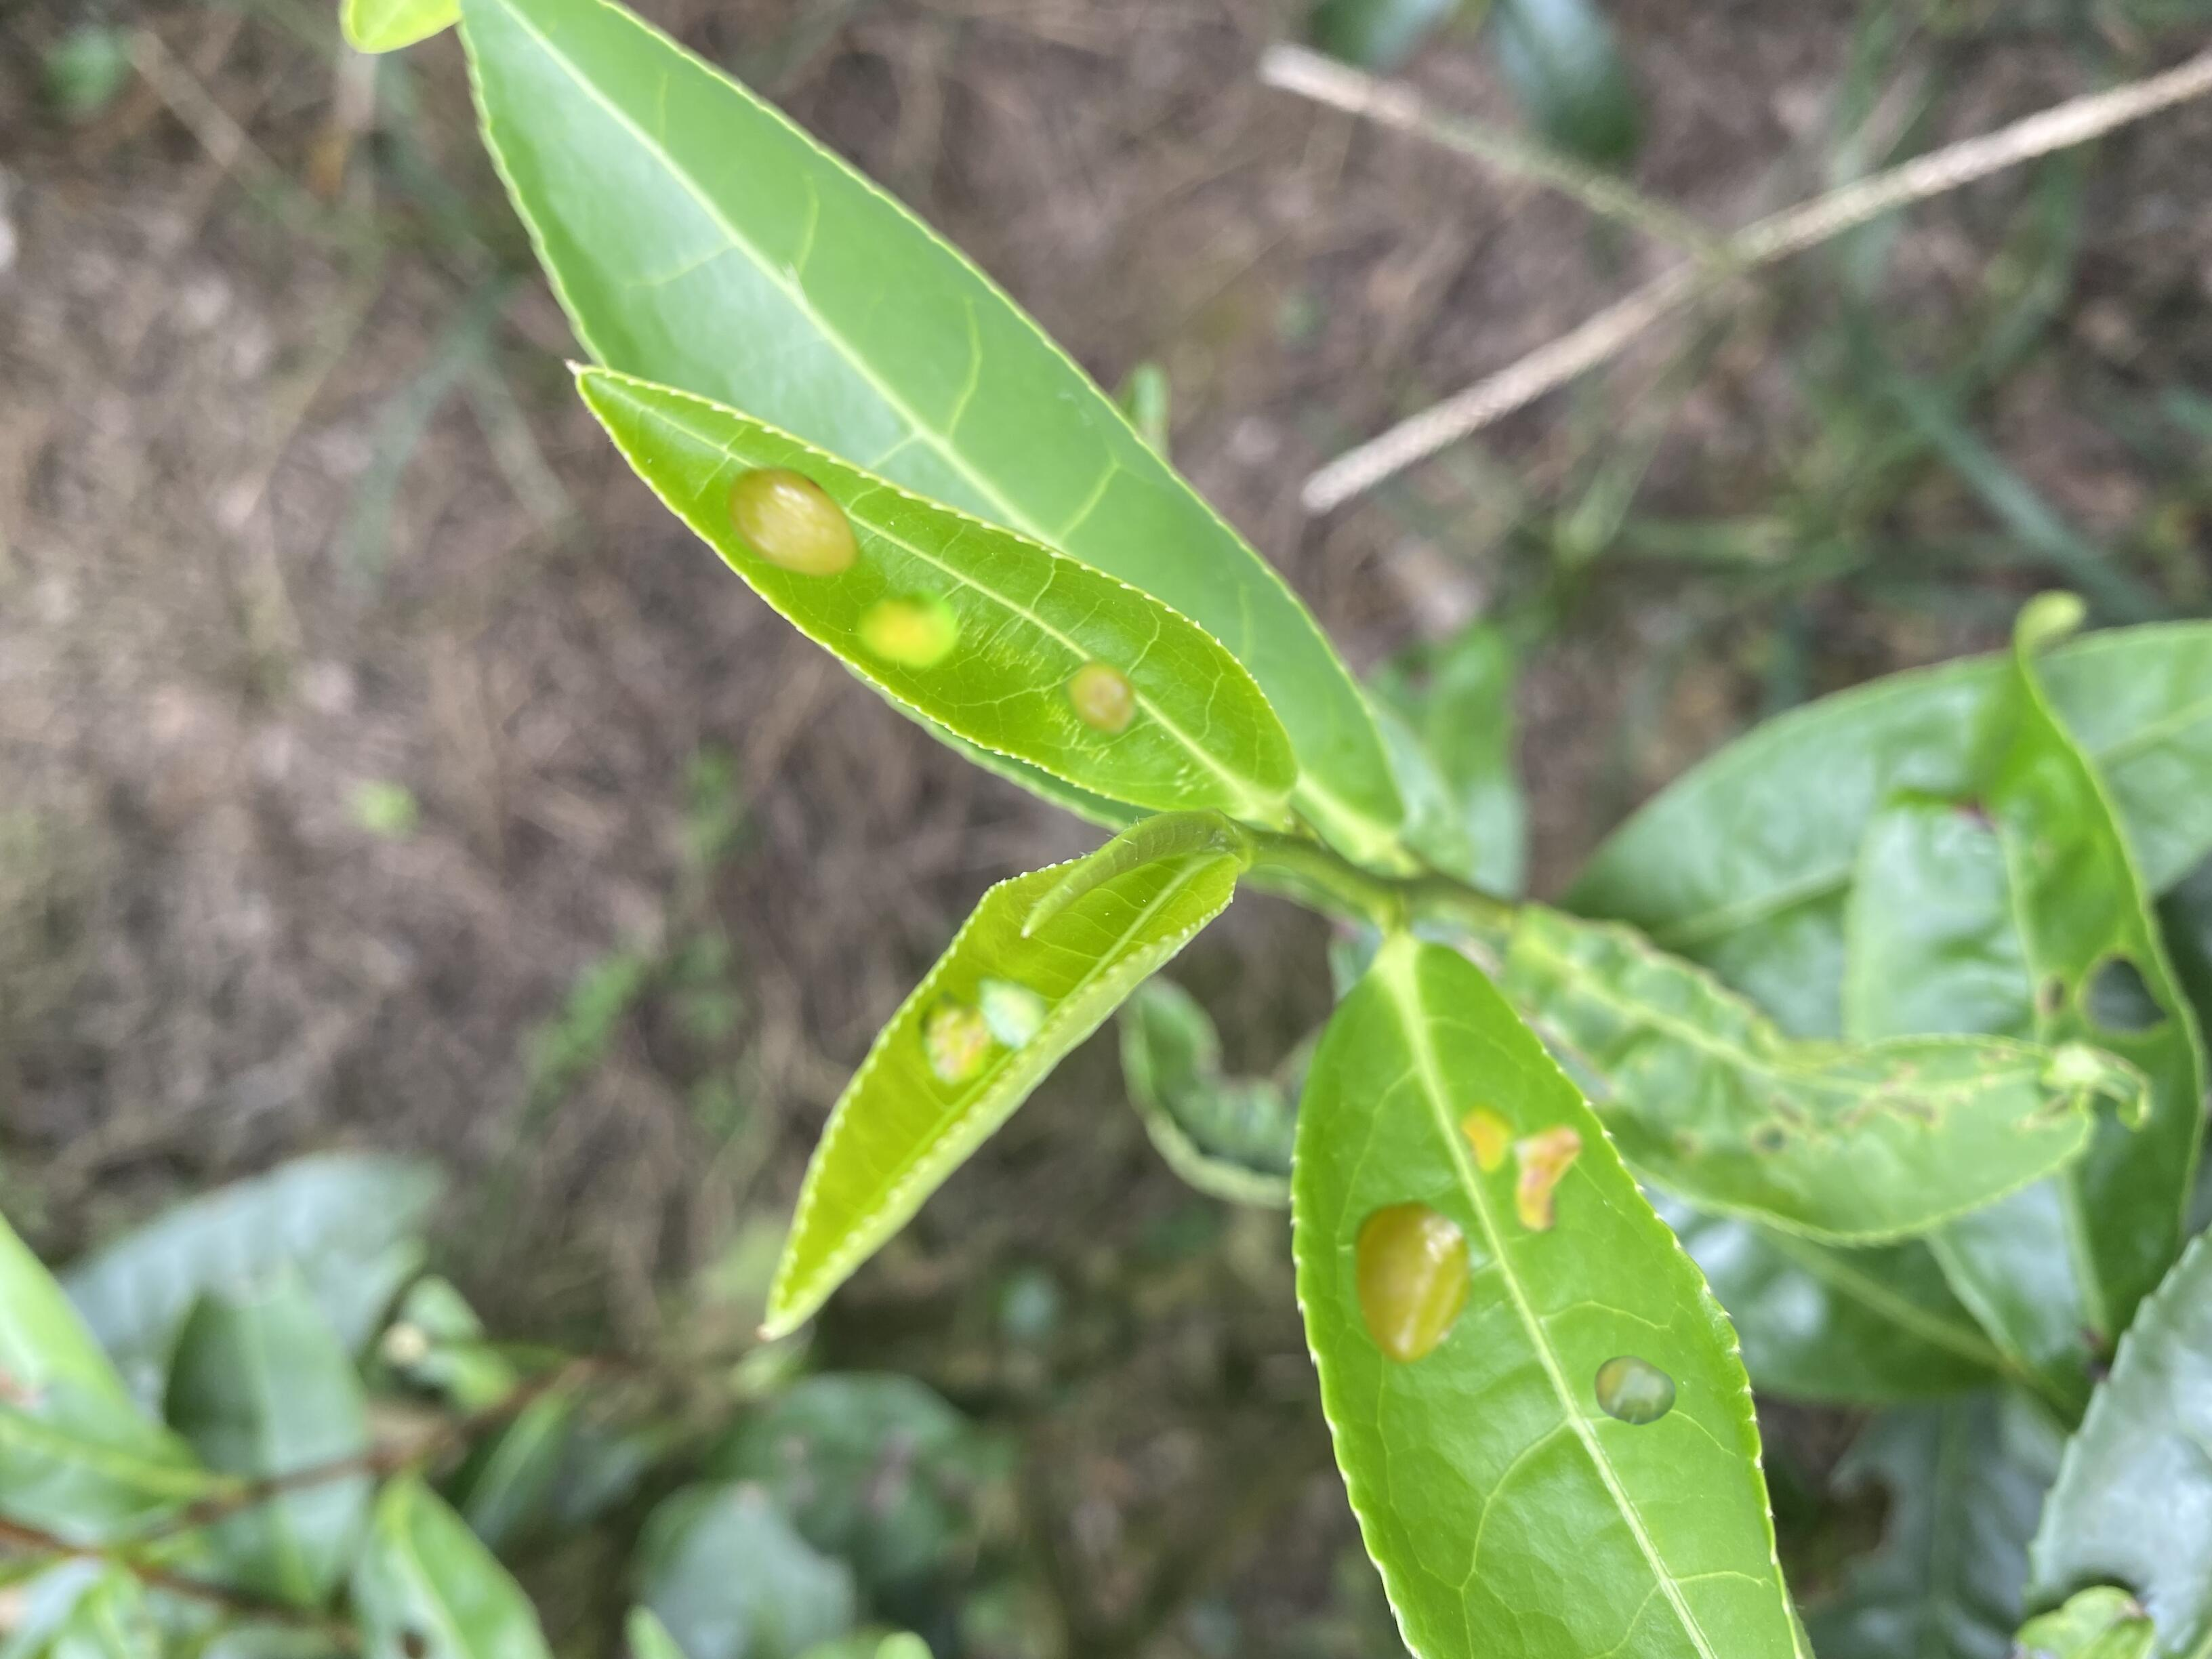chabing_high: (1285, 938, 1820, 1659), (571, 362, 1301, 821), (761, 840, 1249, 1333)
